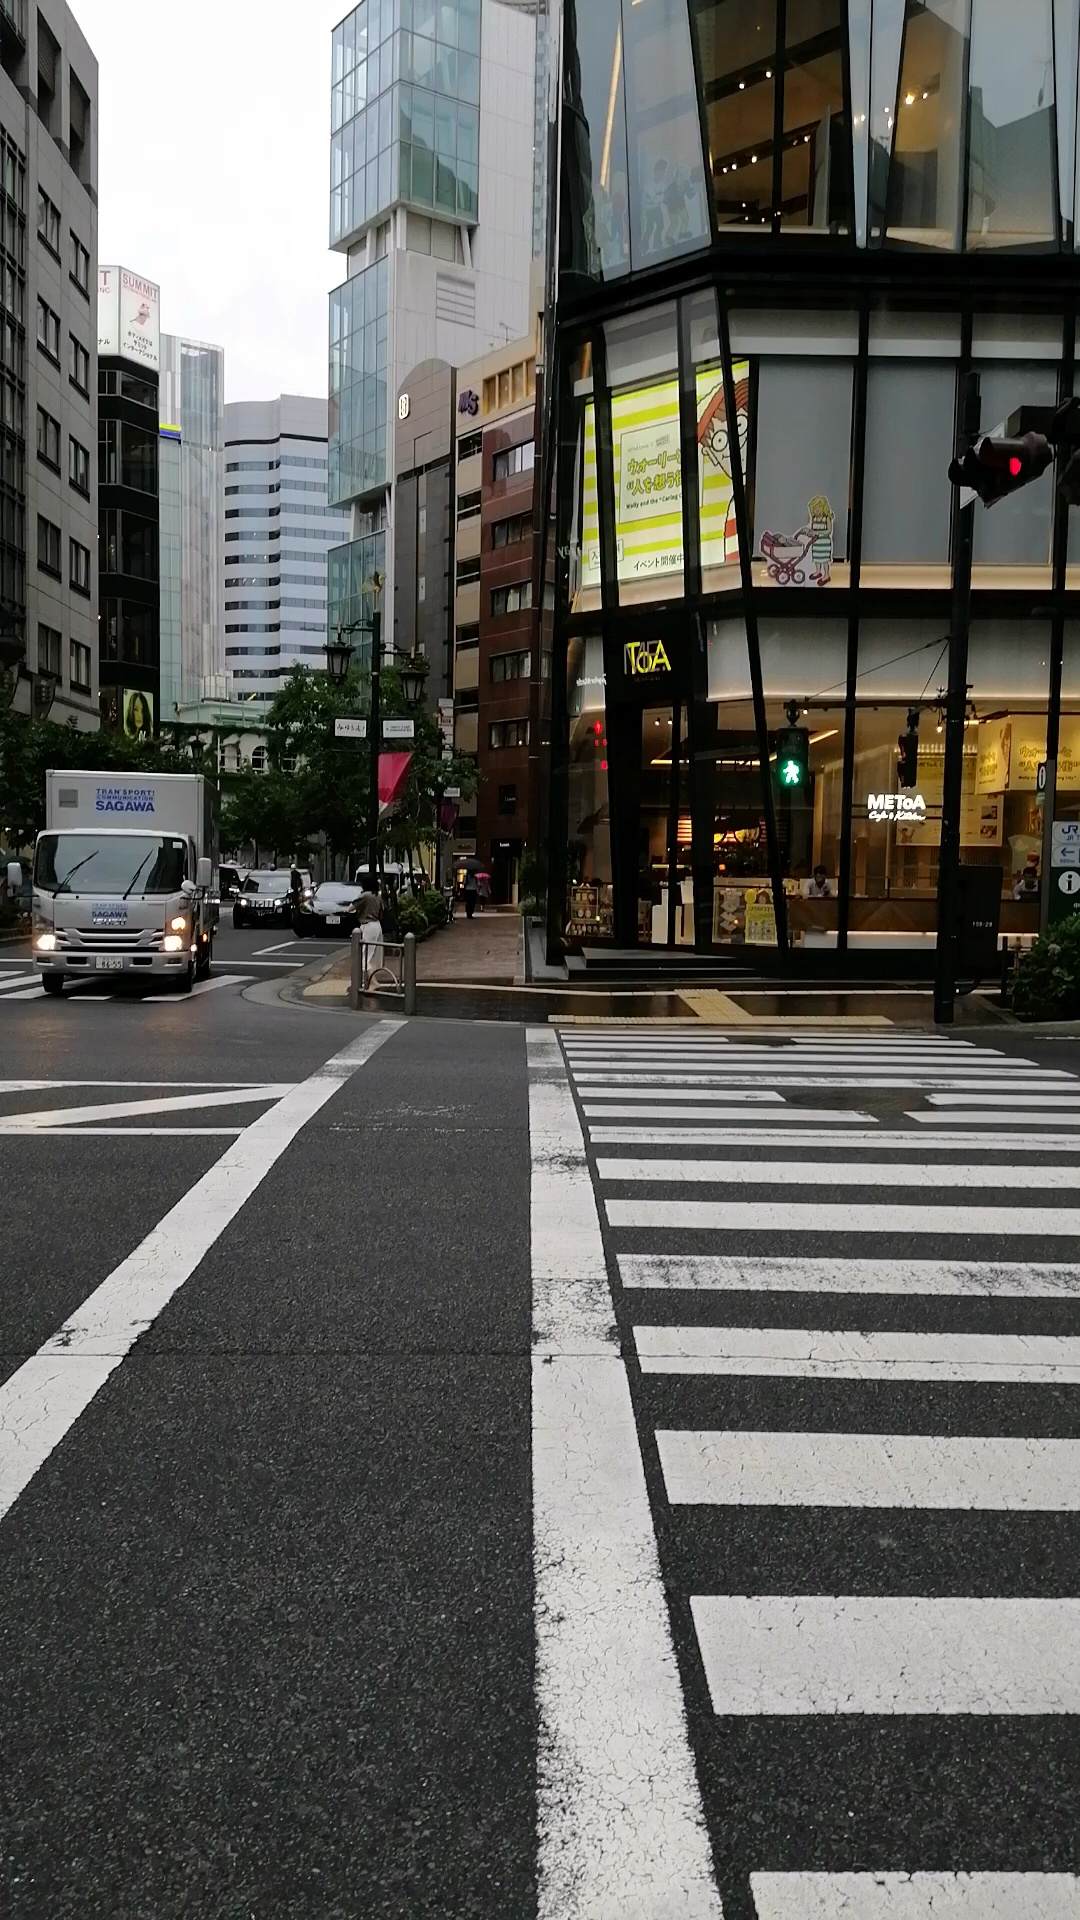green: (775, 728, 807, 790)
